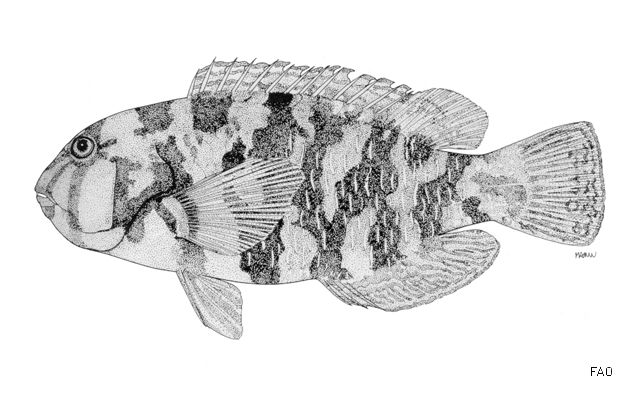fish: (34, 59, 605, 341)
